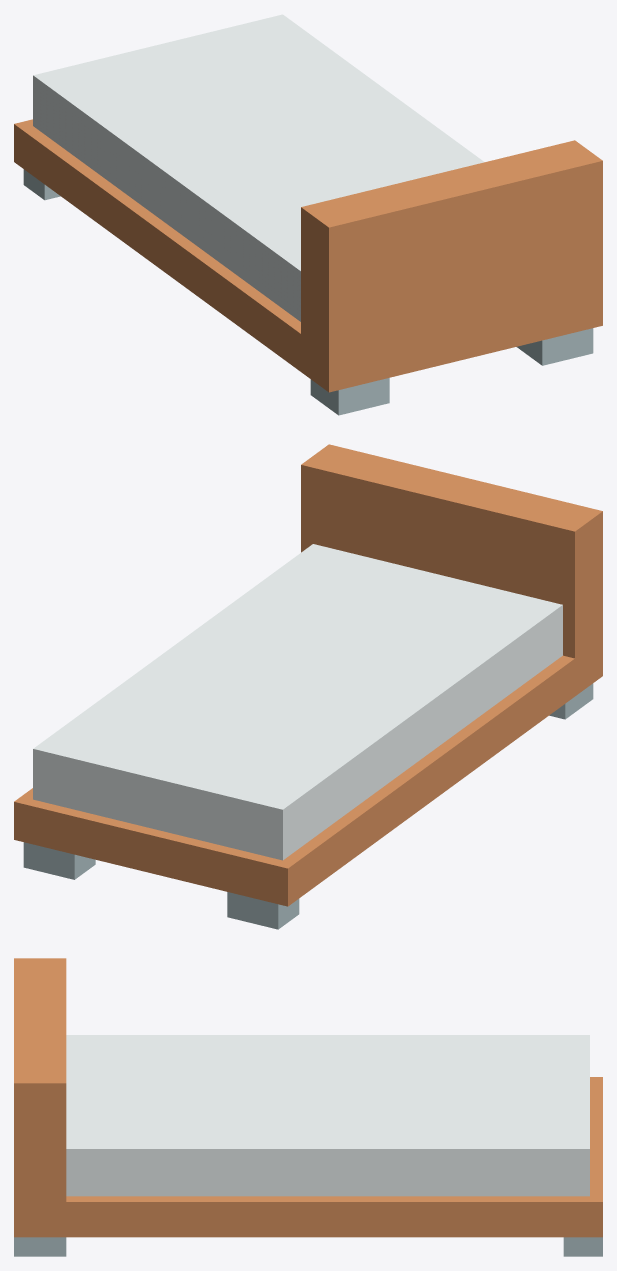
Rendered from BedSingle.glb.
3 renders of one model, top to bottom at view 1: azimuth 30°, elevation 25°; view 2: azimuth 150°, elevation 25°; view 3: azimuth 270°, elevation 25°, orthographic. The views are drawn at different scales.
Parts seen in each view (by area): view 1: BedSingle; view 2: BedSingle; view 3: BedSingle.
Boxes of the visible parts, box(x1,y1,x2,y2) form: BedSingle: box(14, 14, 602, 415); BedSingle: box(14, 444, 602, 929); BedSingle: box(14, 958, 602, 1256).
Bounding box in the file's own units: 1.46 × 0.9669 × 2.9.
